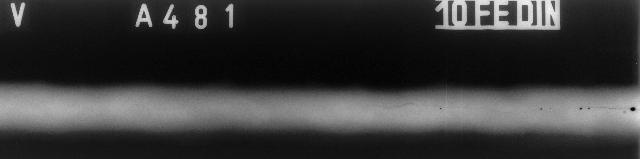FP: (378, 100, 432, 110), (451, 105, 504, 115), (514, 109, 536, 115), (596, 106, 616, 112)
PO: (620, 108, 628, 115), (538, 106, 546, 112), (630, 105, 636, 113), (578, 106, 584, 112), (548, 106, 554, 112), (587, 106, 591, 112), (437, 107, 443, 111), (192, 106, 198, 110), (87, 94, 91, 98), (508, 112, 512, 114)
